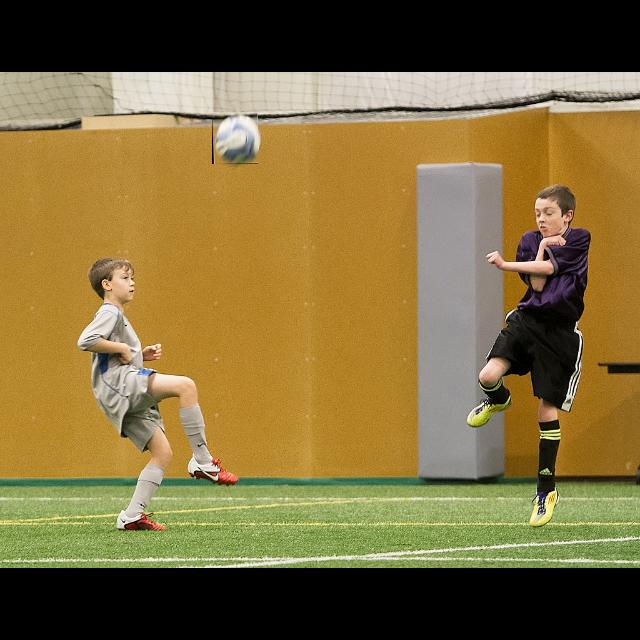Football: (212, 112, 258, 164)
